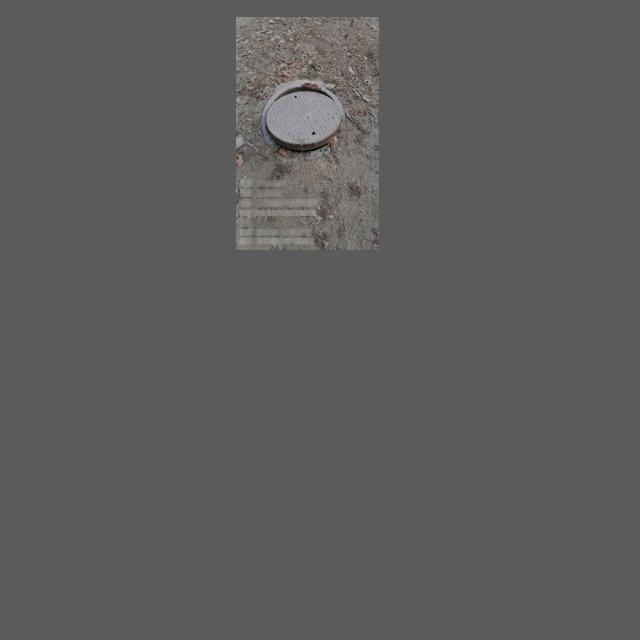uncovered: (261, 81, 344, 159)
